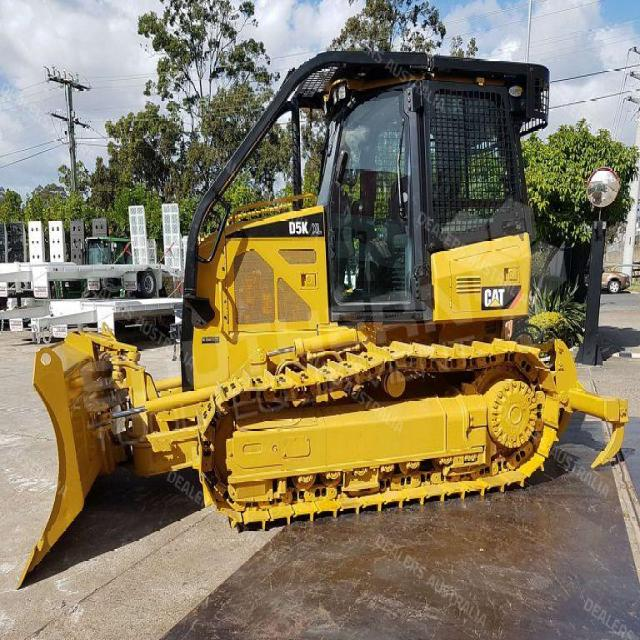buldozerpayloadergrader: (39, 15, 604, 578)
